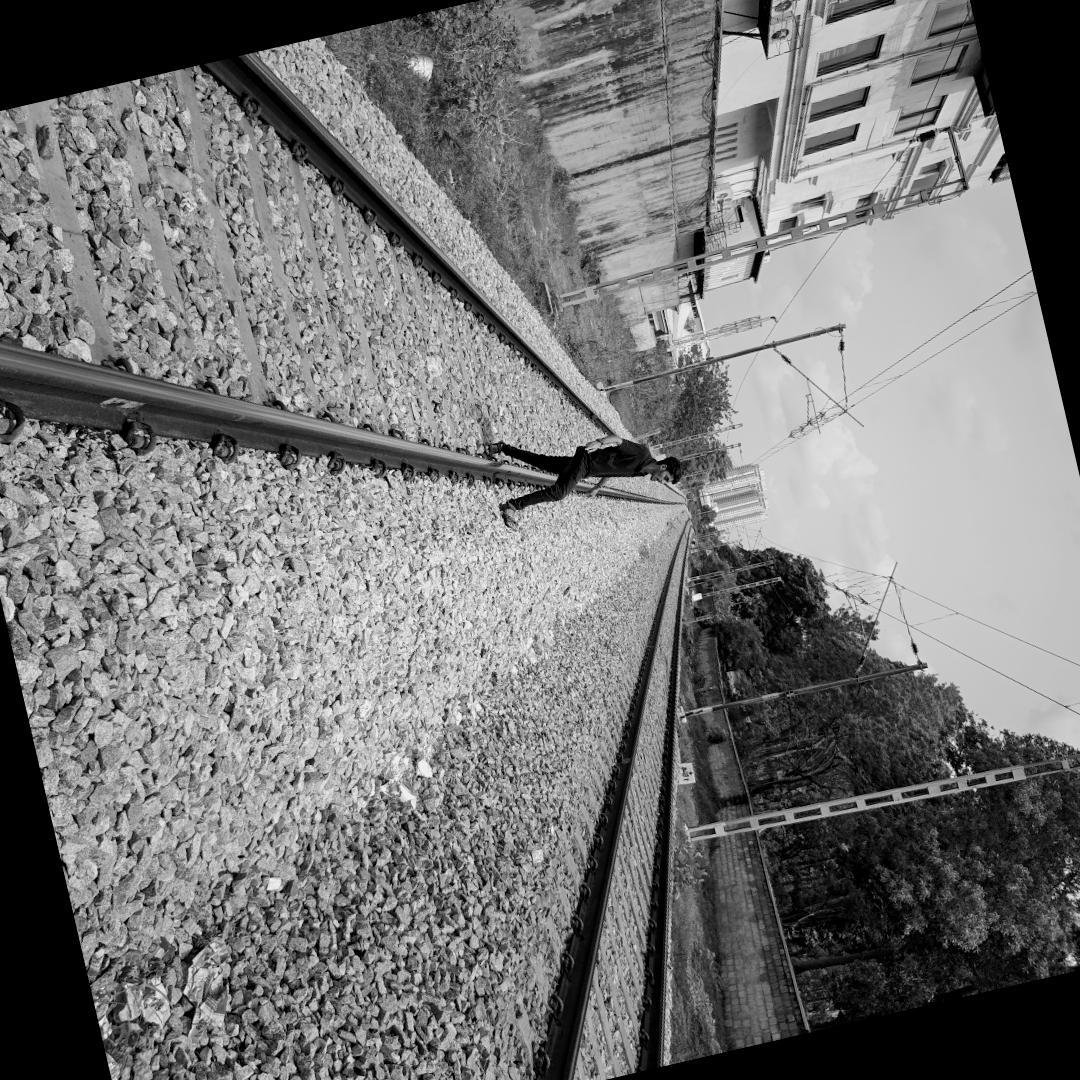track: (0, 43, 689, 599)
